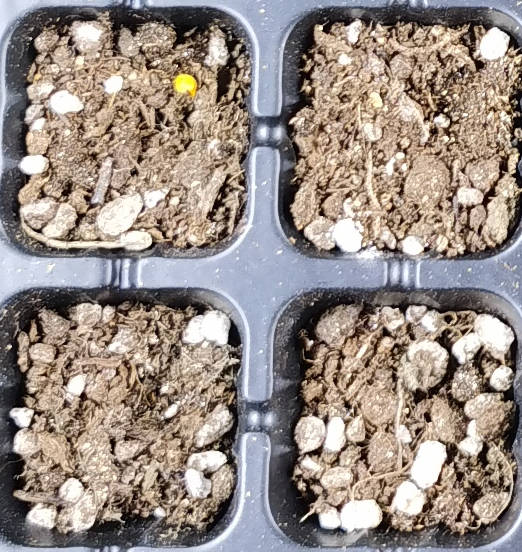pepper seed: (74, 25, 272, 122)
